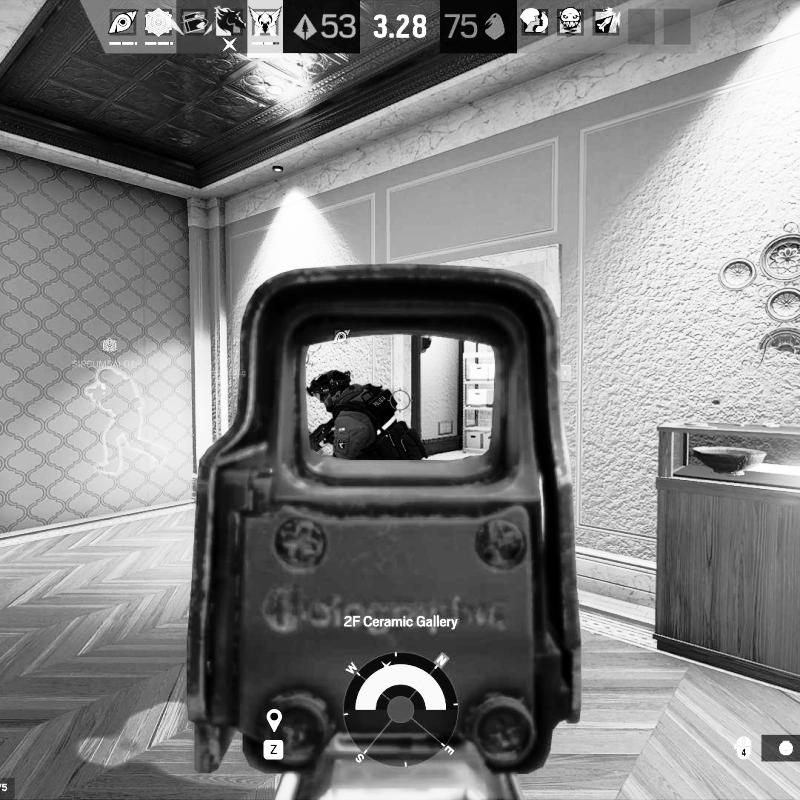Character: (306, 367, 428, 464)
Friend_label: (70, 337, 134, 368), (316, 329, 371, 364), (200, 350, 250, 380)
Head: (306, 368, 352, 408)
